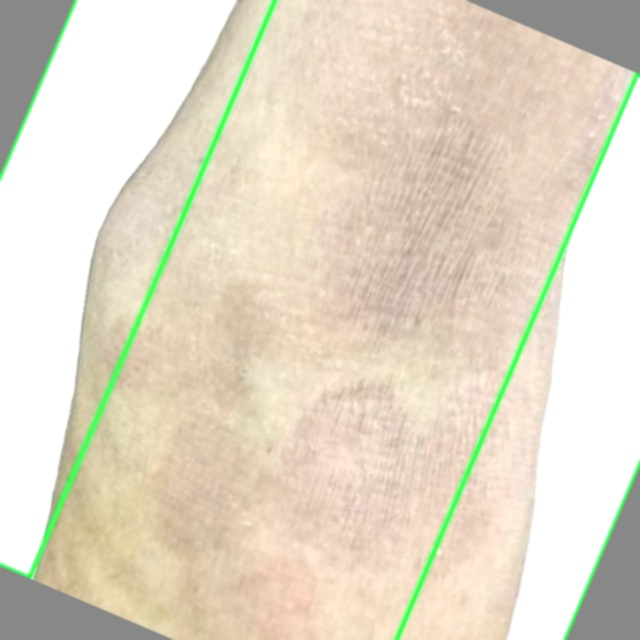Eczema: (0, 0, 275, 577)
